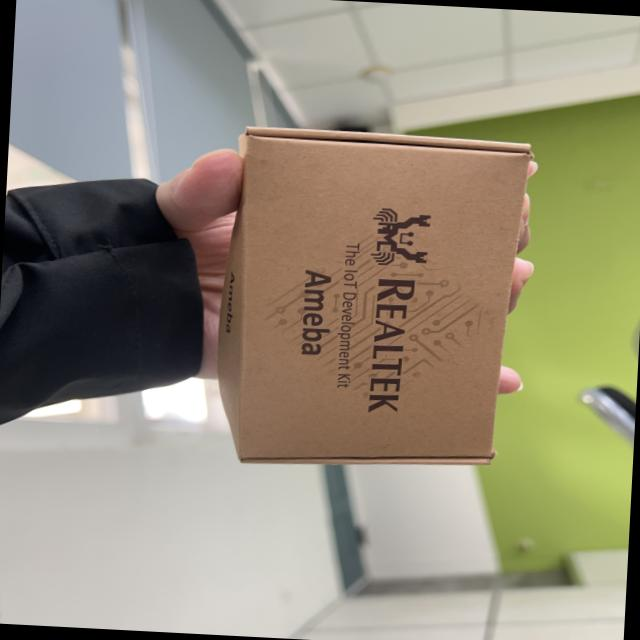box: (213, 114, 527, 499)
